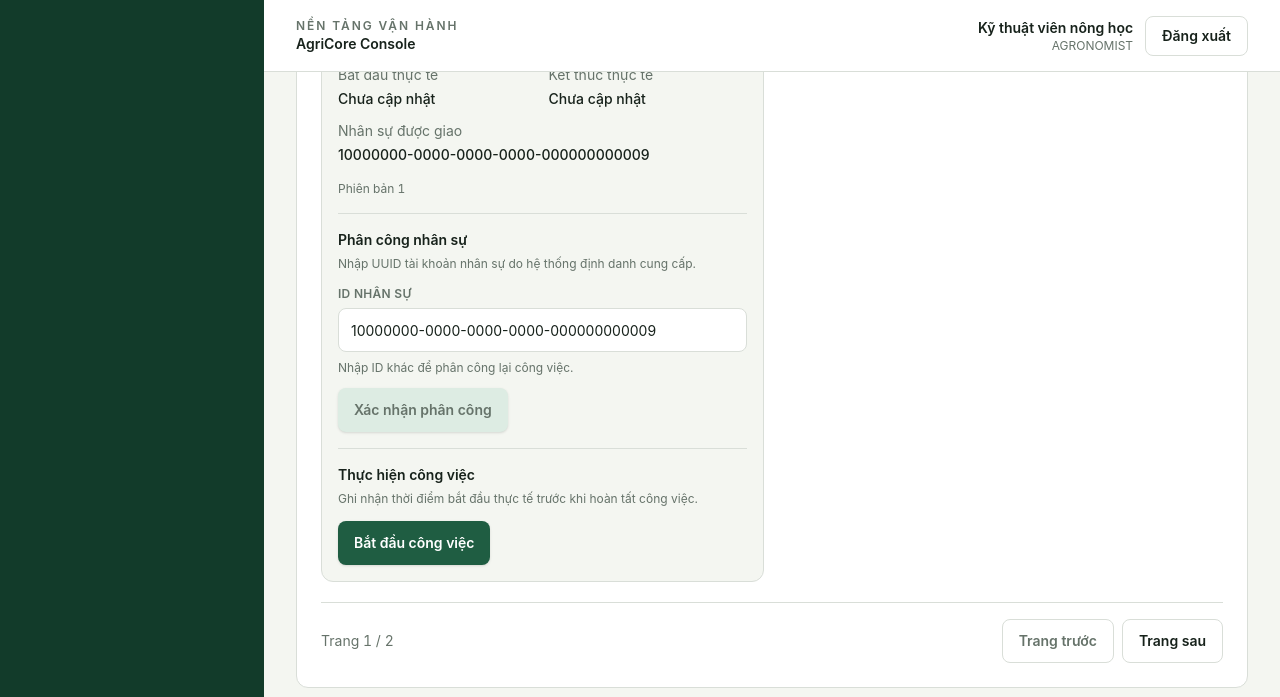
Test: work-task creation pagination › returns to and refreshes the first page after creating from a later page
The image size is (1280, 697).
(page scrolled)
Click the button "Trang sau" at (1172, 641), box [1122, 619, 1223, 663]
(page scrolled)
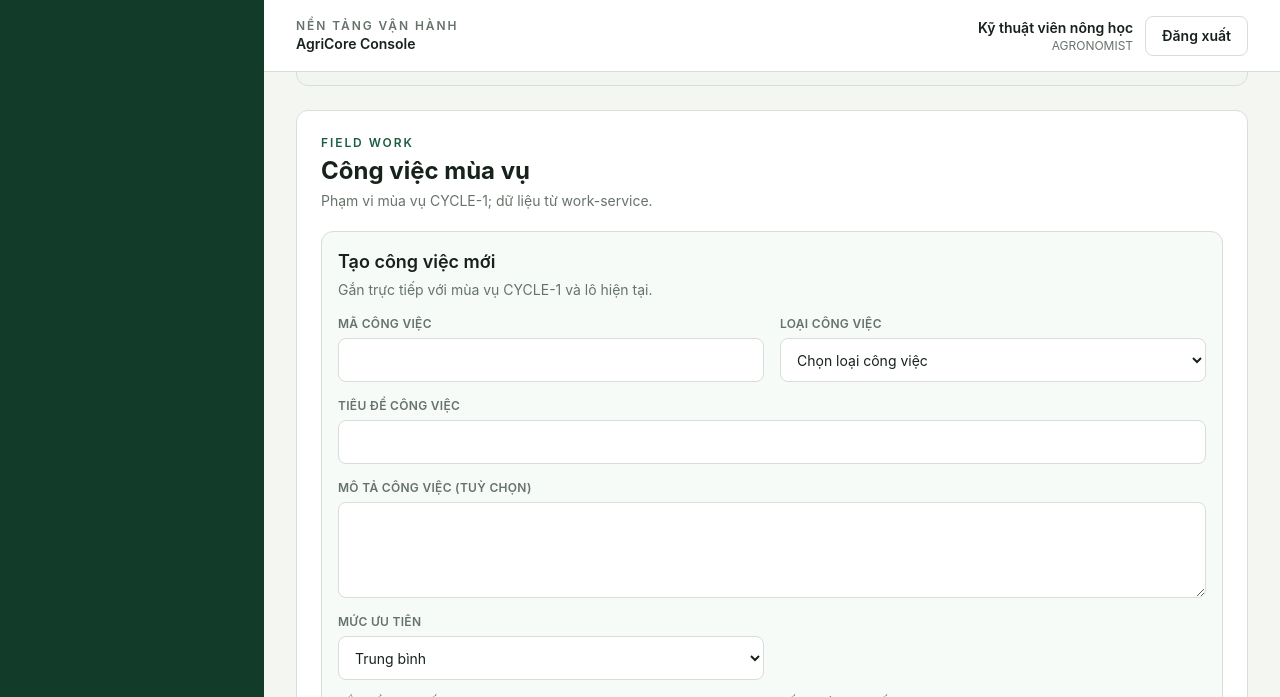
Type "TASK-NEW-PAGE" into the field labelled "Mã công việc" at (551, 360), box [338, 338, 764, 382]
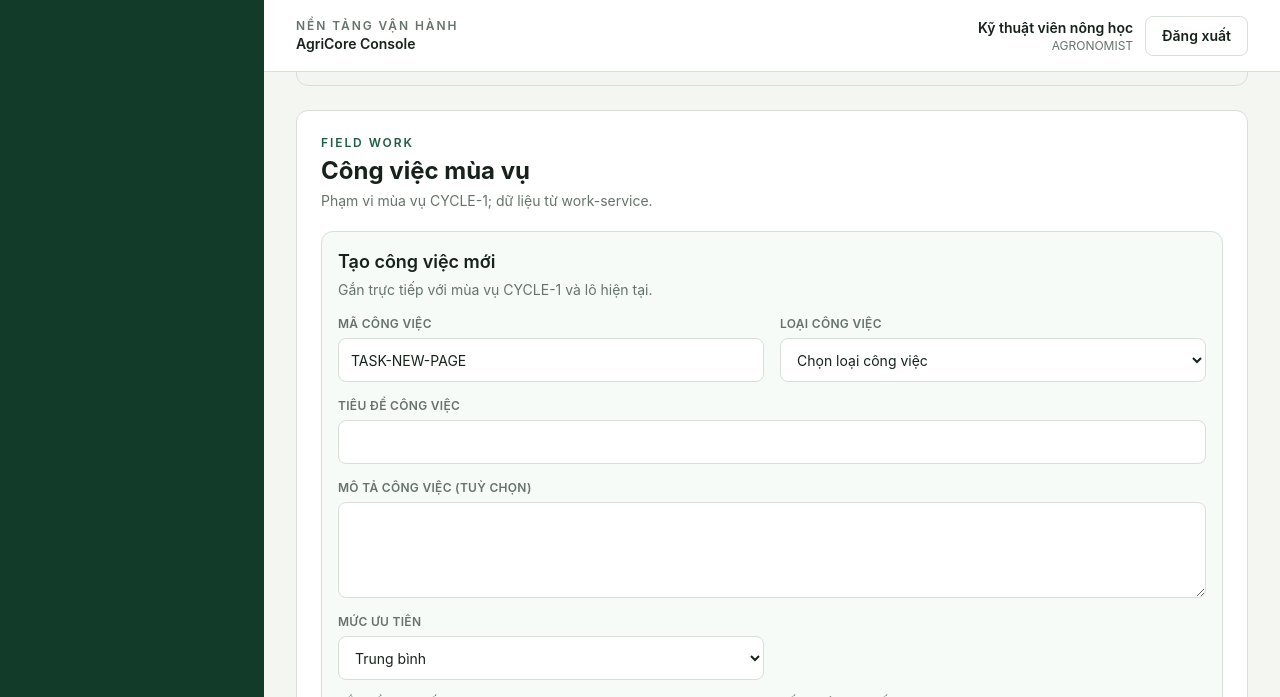
Select "Gieo trồng" in the dropdown labelled "Loại công việc" at (993, 360), box [780, 338, 1206, 382]
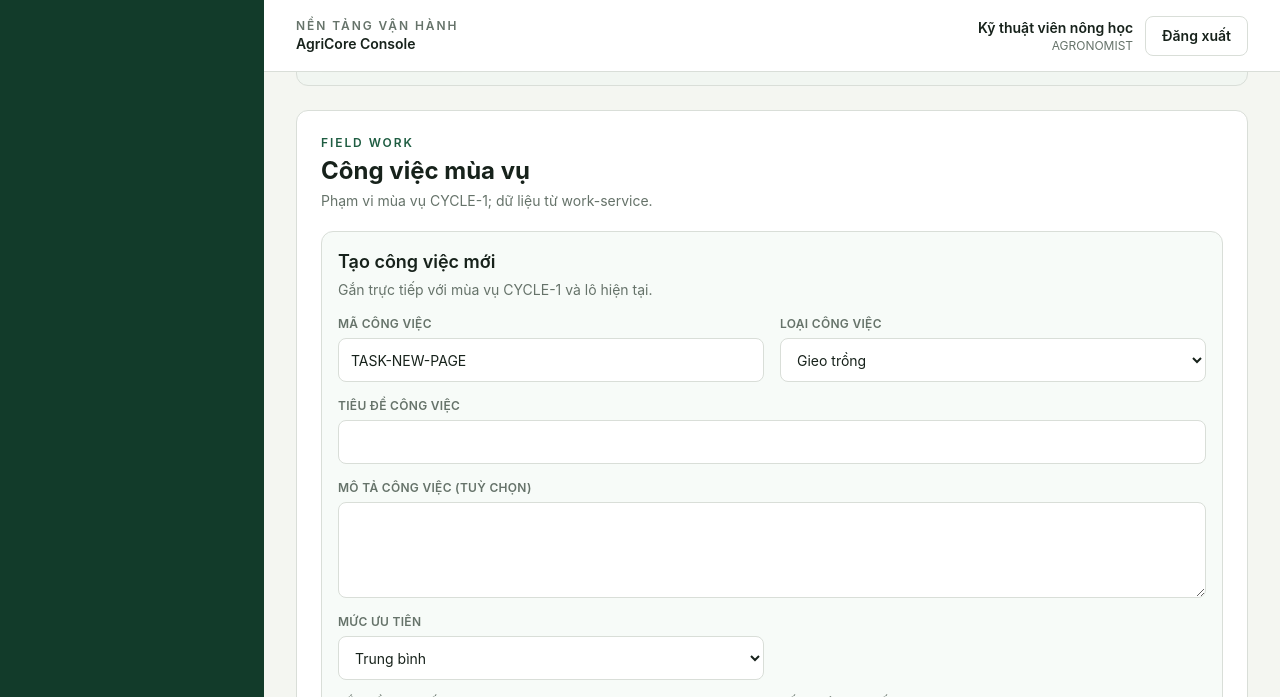
Type "Gieo sau khi phân trang" into the field labelled "Tiêu đề công việc" at (772, 442), box [338, 420, 1206, 464]
(page scrolled)
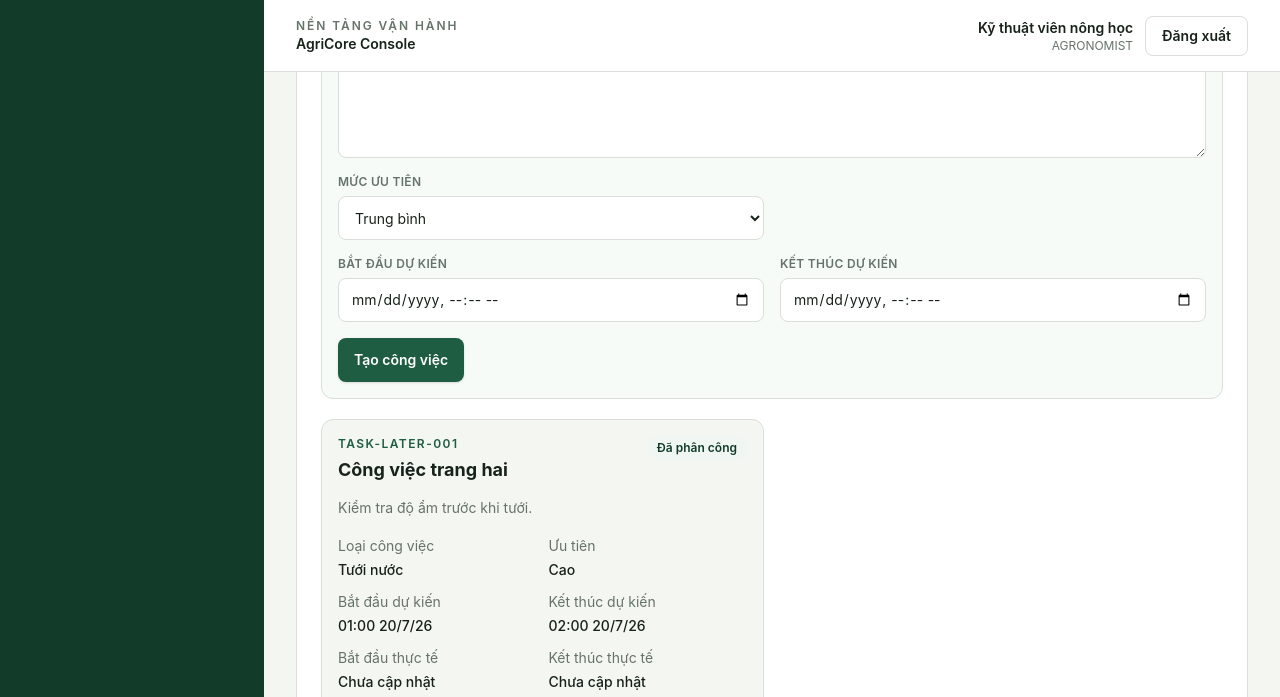
Click the button "Tạo công việc" at (401, 360), box [338, 338, 464, 382]
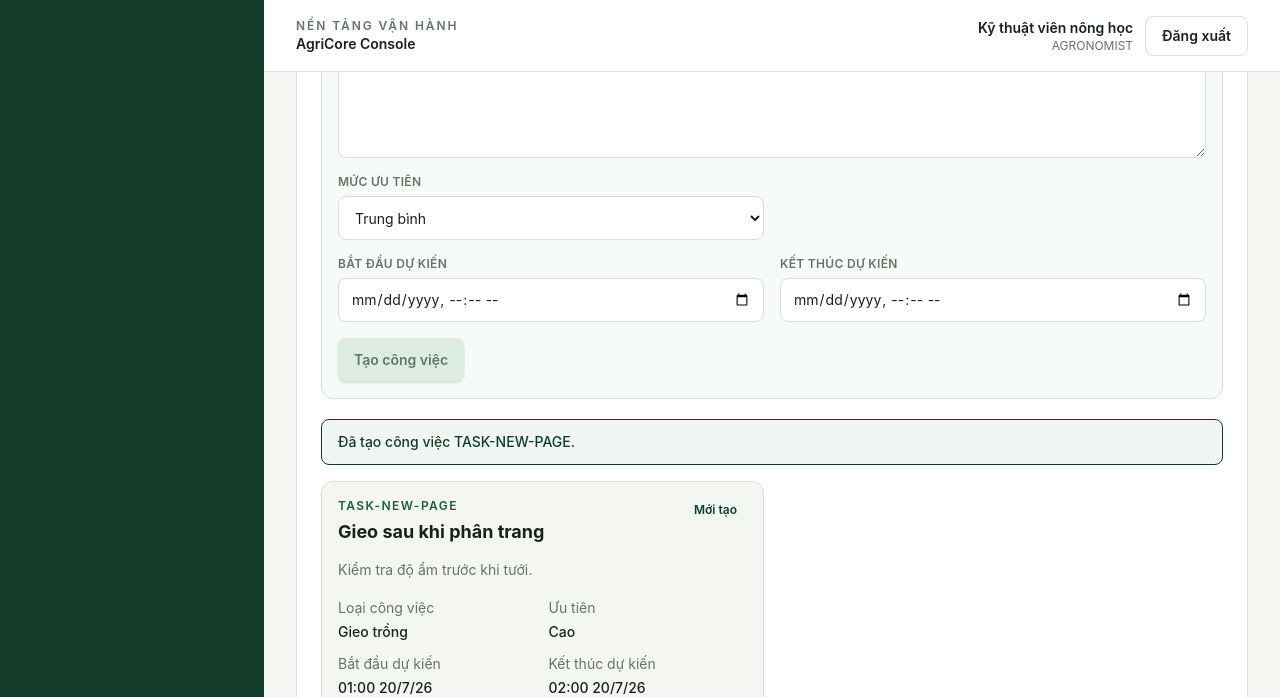
Expected: the heading "Gieo sau khi phân trang" is shown, [338, 518, 544, 546]
Expected: the heading "Công việc trang hai" is gone
